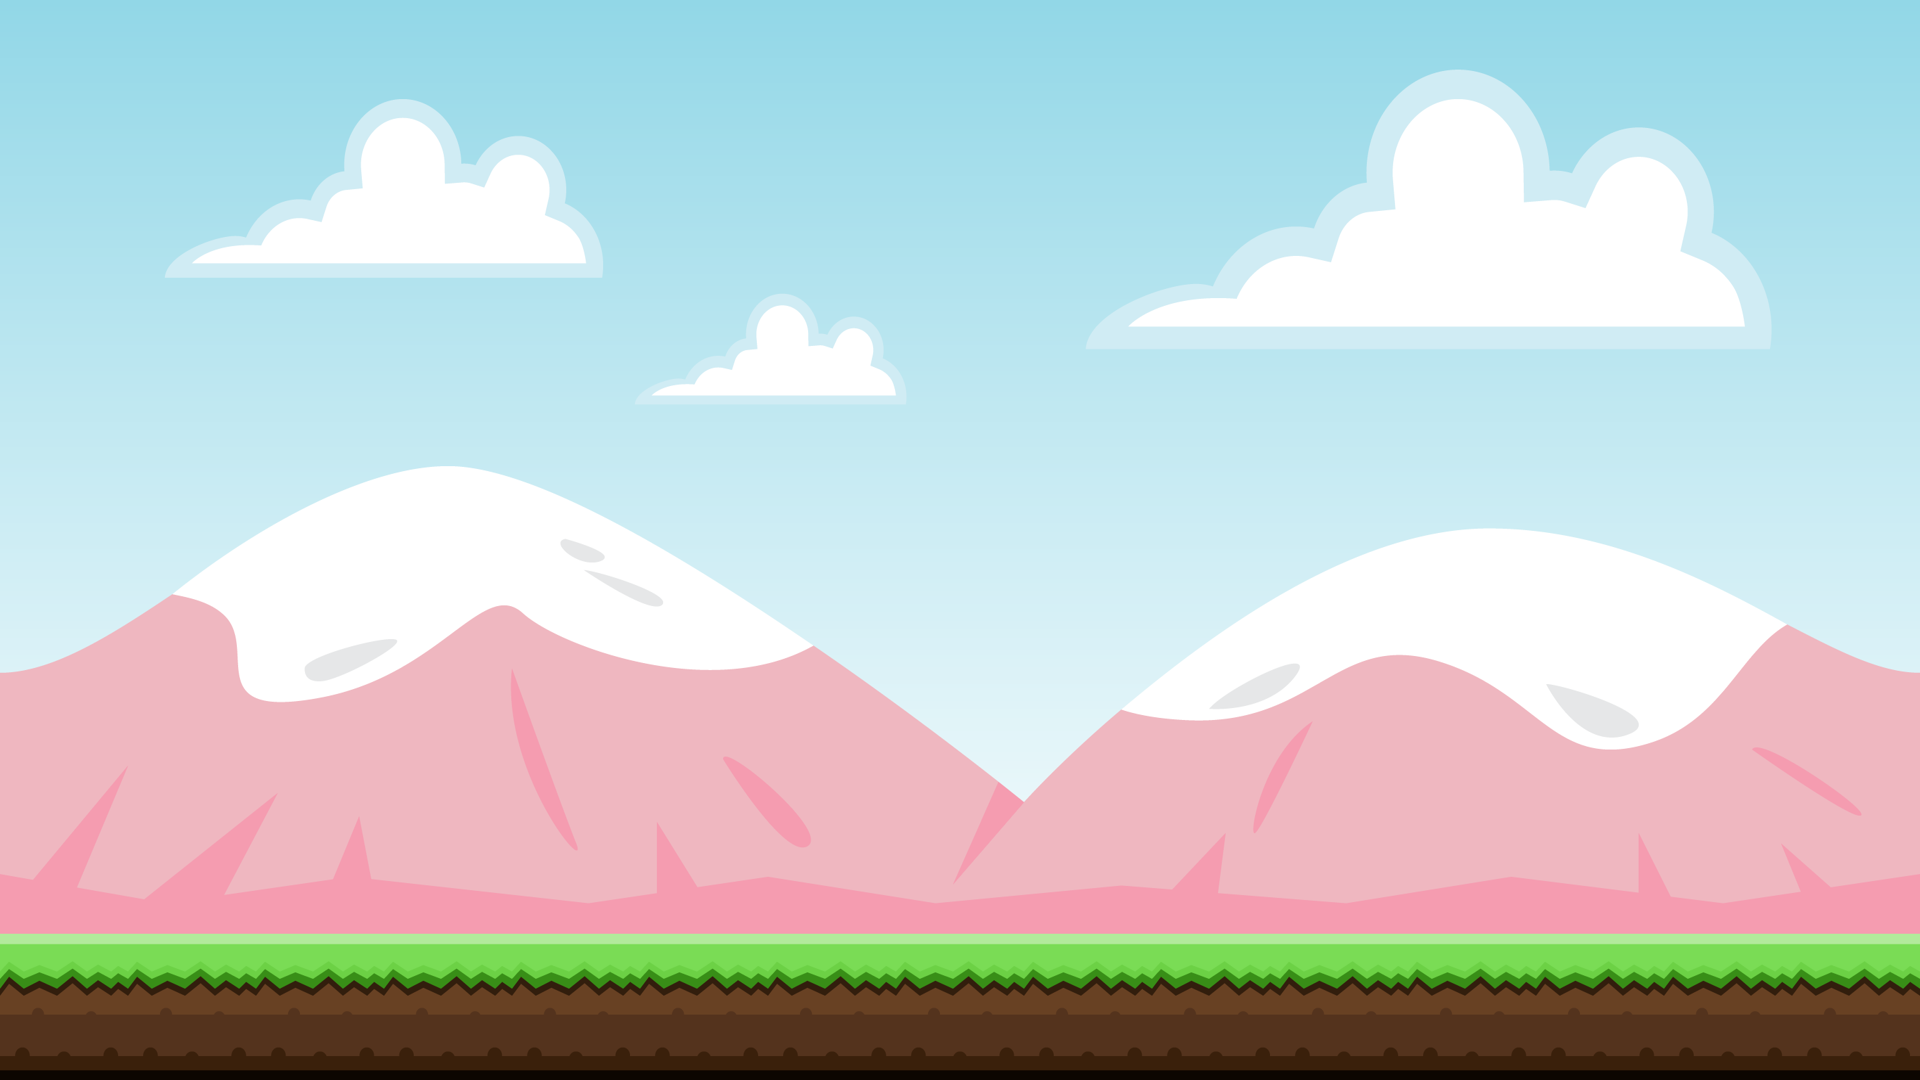batmonster: (939, 324, 998, 369), (1636, 451, 1663, 483), (116, 224, 142, 255), (835, 340, 861, 371), (1337, 276, 1364, 306)
beemonster: (1425, 320, 1451, 352)
character: (113, 742, 185, 807)
door: (1775, 175, 1859, 285)
flymonster: (1084, 583, 1112, 611), (1146, 582, 1174, 609)
ground: (1764, 498, 1920, 932), (785, 618, 939, 939), (429, 778, 613, 940), (1106, 716, 1208, 942), (1611, 804, 1768, 942), (182, 862, 425, 931), (1337, 831, 1470, 936)
ground_empty: (3, 935, 1920, 1073)
ground_grass: (26, 526, 363, 571), (247, 178, 583, 223), (1312, 128, 1648, 173), (822, 236, 1156, 281), (1309, 620, 1592, 666), (459, 418, 770, 452), (1565, 357, 1830, 386)
littlemonster: (535, 703, 583, 752), (719, 375, 746, 402)
shootmonster: (1677, 301, 1714, 338), (1059, 185, 1095, 222), (1547, 520, 1575, 549), (276, 481, 301, 512)
smallmonster: (472, 127, 498, 158), (1460, 82, 1486, 113), (215, 469, 241, 501), (522, 361, 549, 392)
spiculate_buff: (877, 555, 905, 583)
wallmonster: (848, 166, 895, 215), (1336, 542, 1364, 570)
window: (11, 3, 615, 814)
